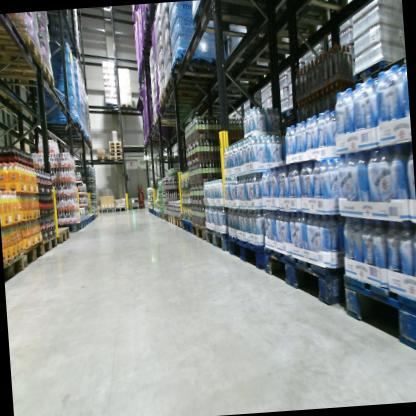pallet: (260, 231, 353, 307), (342, 266, 416, 360), (194, 0, 289, 44), (248, 8, 334, 52), (164, 47, 226, 105), (278, 0, 376, 33), (208, 64, 291, 99), (229, 30, 290, 73), (0, 20, 45, 72), (0, 57, 60, 94), (227, 230, 266, 276), (351, 57, 393, 87), (155, 87, 207, 110), (204, 224, 232, 256), (151, 110, 190, 131), (0, 87, 27, 117), (3, 253, 28, 285), (42, 113, 81, 133), (22, 240, 45, 271), (40, 232, 59, 258), (55, 220, 83, 235), (191, 220, 208, 244), (65, 136, 94, 150), (275, 107, 297, 121), (57, 226, 72, 246), (182, 217, 194, 237), (120, 102, 134, 115), (105, 99, 119, 111), (174, 214, 183, 229), (96, 154, 110, 162), (100, 207, 115, 214), (109, 139, 122, 146), (168, 214, 175, 226), (115, 206, 128, 212), (109, 156, 122, 161), (109, 145, 122, 150), (164, 213, 170, 223), (110, 152, 122, 157), (109, 149, 122, 153), (81, 219, 87, 227), (89, 216, 94, 225), (160, 211, 164, 220), (86, 217, 90, 226), (92, 214, 96, 221)
